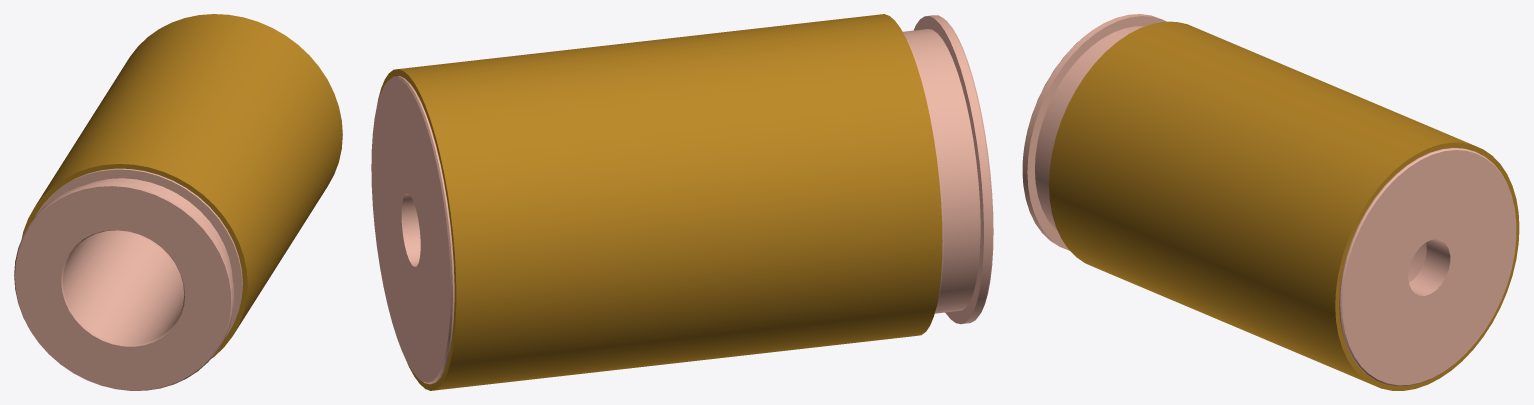
File: 10.6_truba-kontakta-tk-2500.glb
3 renders of one model, left to right at view 1: azimuth 30°, elevation 25°; view 2: azimuth 150°, elevation 25°; view 3: azimuth 270°, elevation 25°, orthographic. The views are drawn at different scales.
Visible parts, largest first — view 1: 10.6_truba-kontakta-tk-2500; view 2: 10.6_truba-kontakta-tk-2500; view 3: 10.6_truba-kontakta-tk-2500.
Part boxes in pixels (<box>): 10.6_truba-kontakta-tk-2500: <box>14,14,342,390</box>; 10.6_truba-kontakta-tk-2500: <box>371,14,993,390</box>; 10.6_truba-kontakta-tk-2500: <box>1022,14,1519,390</box>.
Size of the model in its own units: 179 by 94 by 179.
